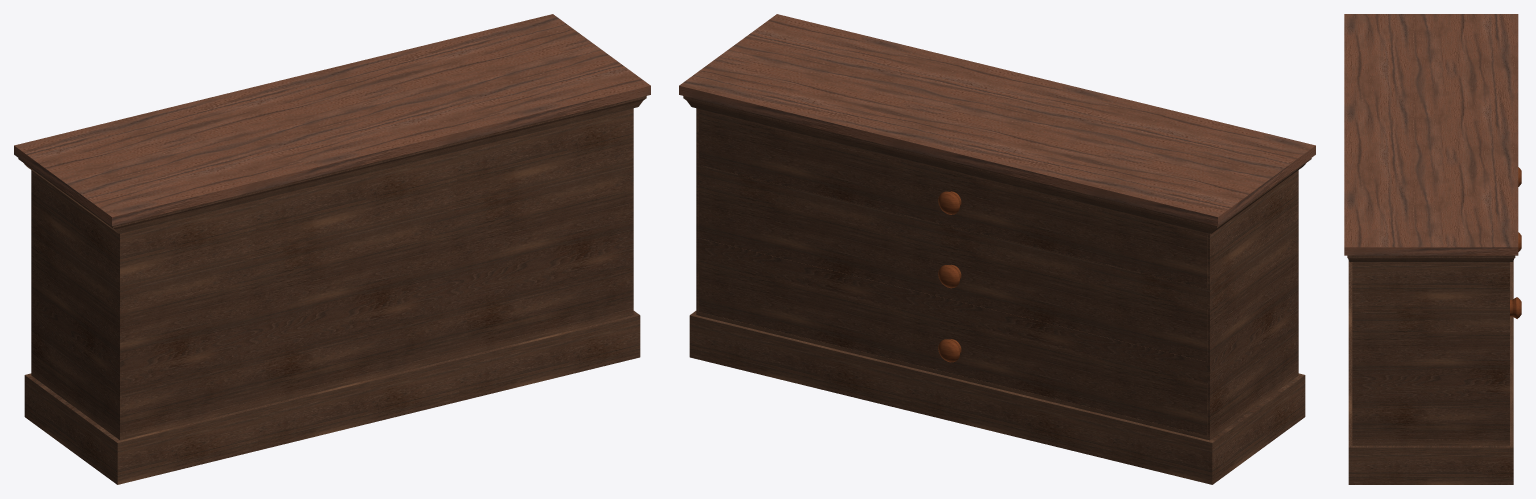
Rendered from Cabinet3Drawers.fbx.
3 renders of one model, left to right at view 1: azimuth 30°, elevation 25°; view 2: azimuth 150°, elevation 25°; view 3: azimuth 270°, elevation 25°, orthographic. The views are drawn at different scales.
Visible parts, largest first — view 1: Cabinet; view 2: Cabinet, CabinetDrawer, CabinetDrawer2, CabinetDrawer1; view 3: Cabinet, CabinetDrawer2.
Boxes of the visible parts, x1=… form: Cabinet: x1=14, y1=14, x2=650, y2=484; Cabinet: x1=679, y1=14, x2=1315, y2=484; CabinetDrawer: x1=699, y1=111, x2=1207, y2=288; CabinetDrawer2: x1=699, y1=259, x2=1207, y2=435; CabinetDrawer1: x1=699, y1=185, x2=1207, y2=361; Cabinet: x1=1344, y1=14, x2=1518, y2=484; CabinetDrawer2: x1=1510, y1=297, x2=1521, y2=318.
Size of the model in its own units: 268 by 129 by 86.06.
